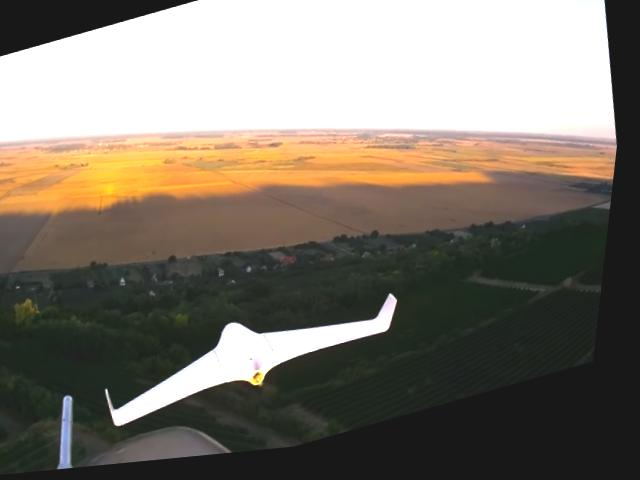plane: (107, 283, 415, 433)
